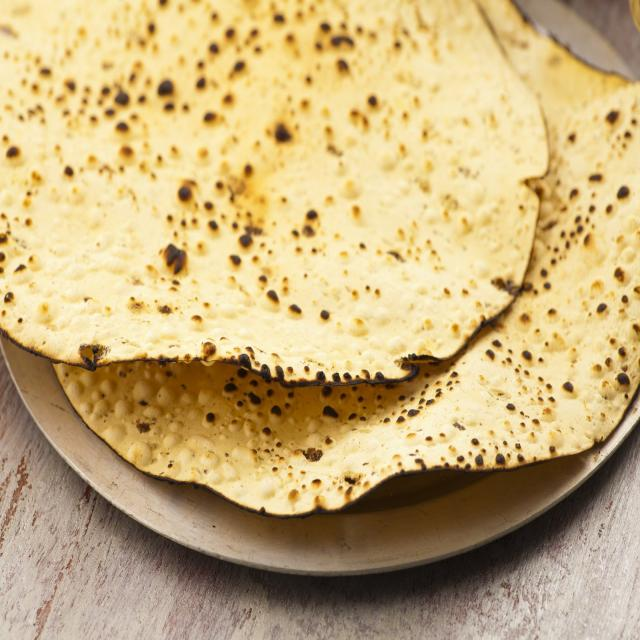papad: (43, 28, 640, 520), (0, 6, 538, 368)
